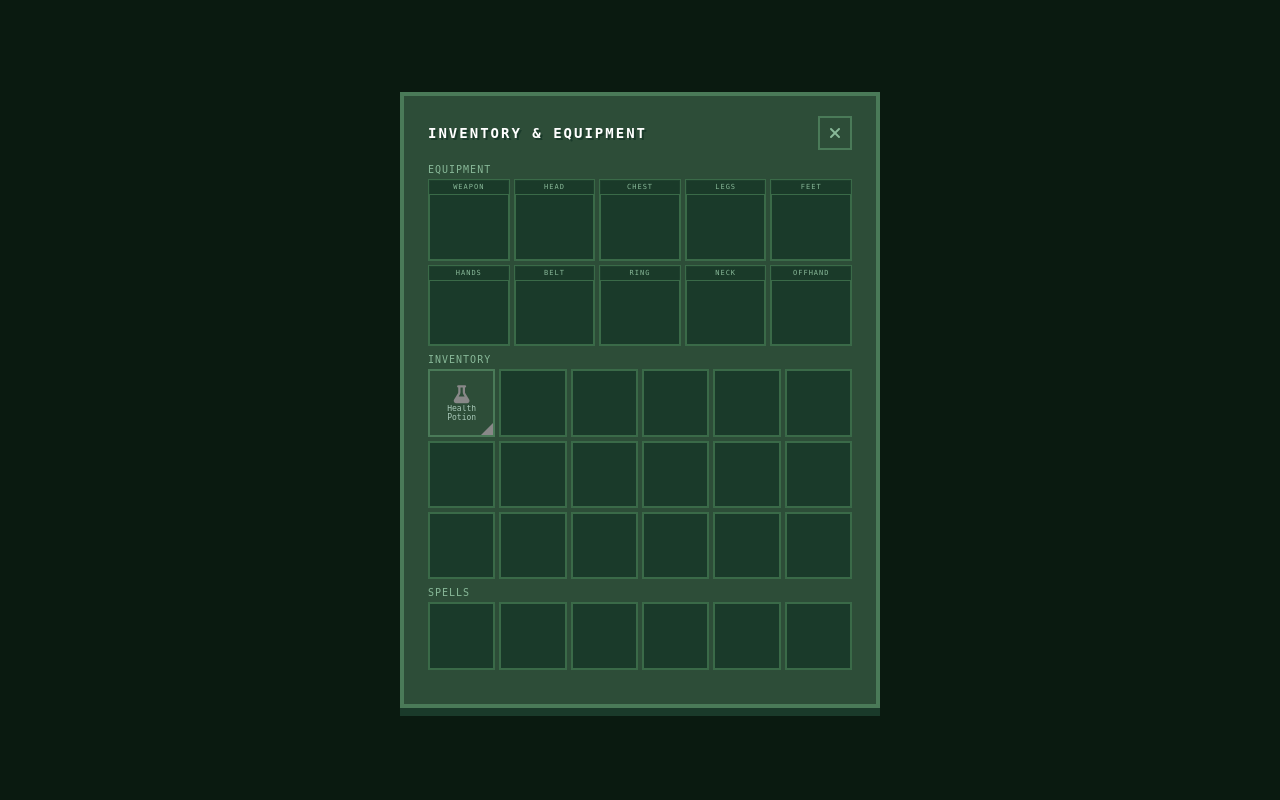
Scenario: InventoryDialog › consume confirmation dialog › cancel closes dialog and leaves item in inventory
Click the element showing "Health Potion": (462, 403) left=428, top=369, right=495, bottom=437
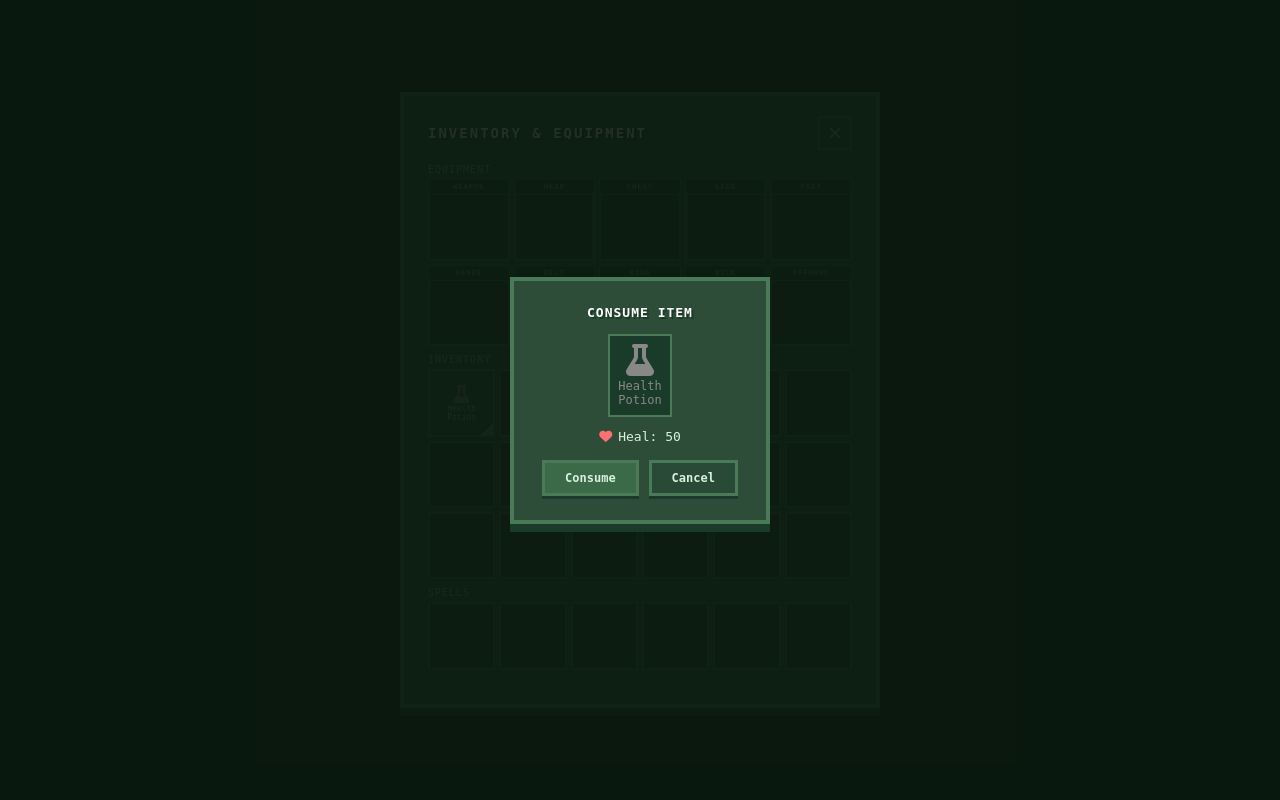
Result: the heading "Consume Item" is shown at left=587, top=304, right=693, bottom=320
Click the button "Cancel": (693, 478) left=649, top=460, right=738, bottom=496
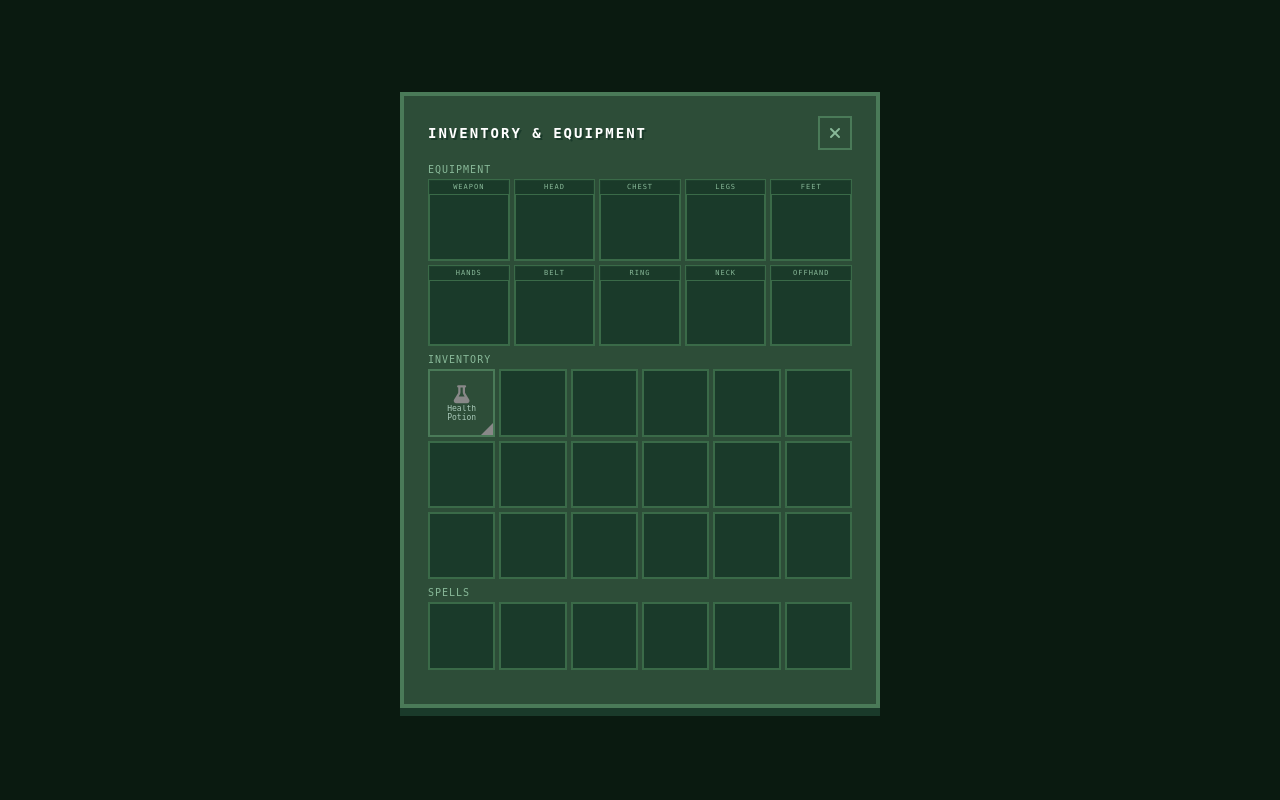
Expected: the text "Health Potion" is shown, left=447, top=404, right=476, bottom=422
Result: the heading "Consume Item" is gone
